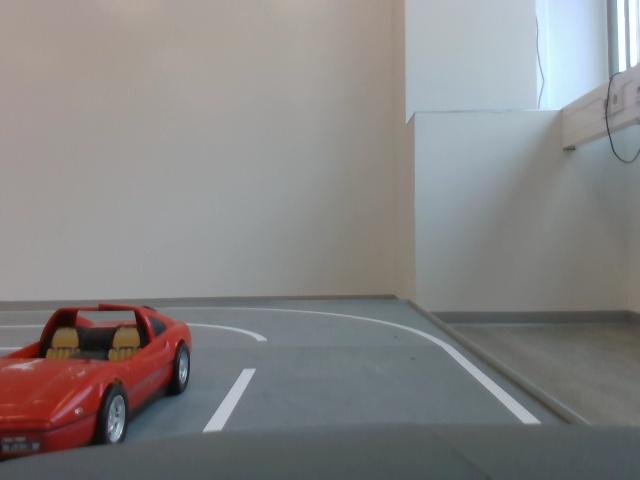car: (2, 285, 217, 455)
